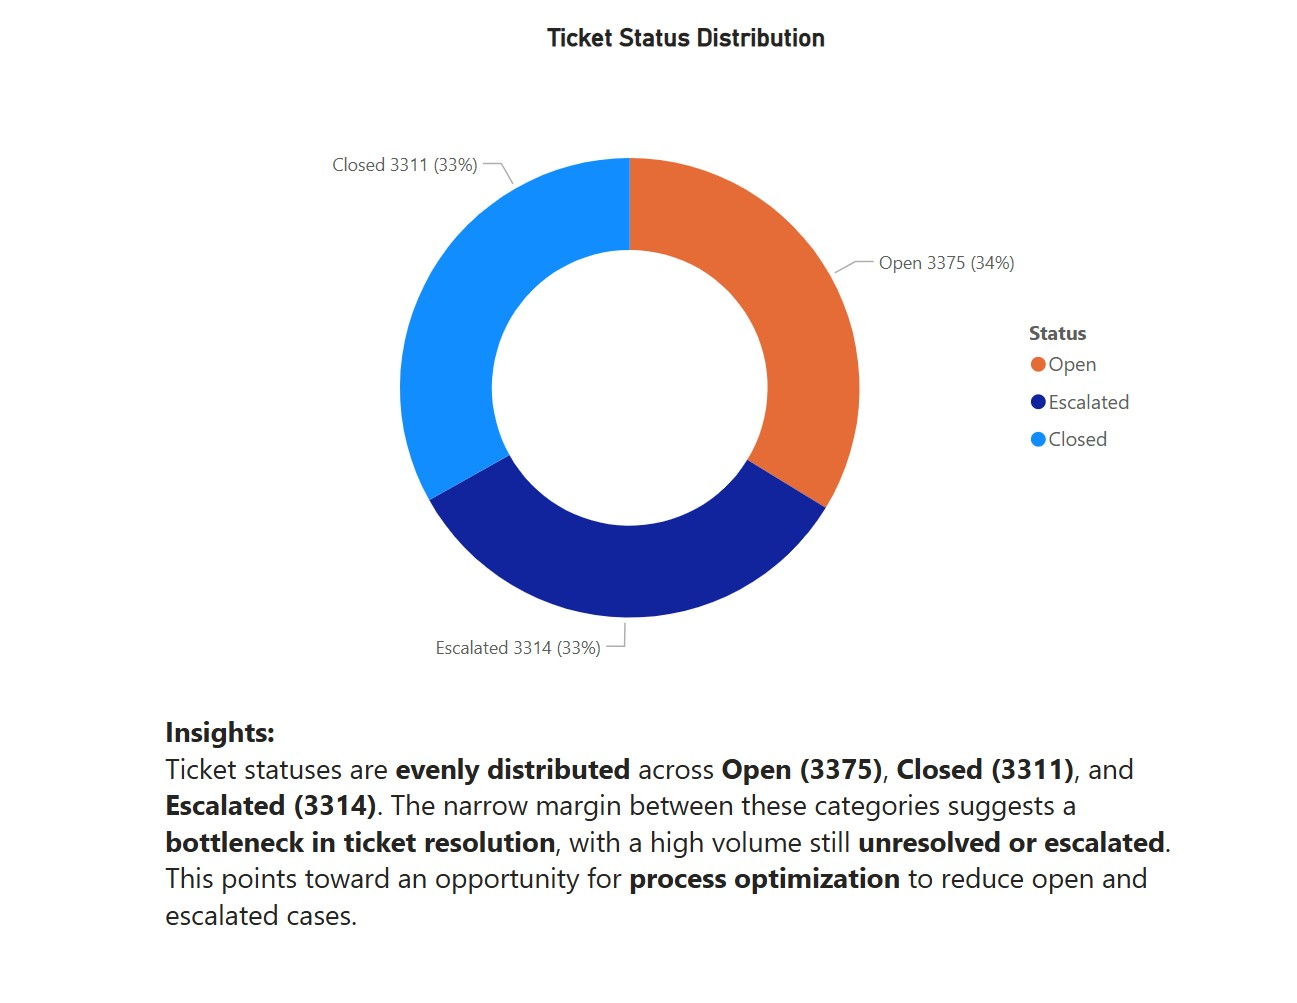

Layout of this report page (visuals, bound fields, positions):
{"tool":"powerbi","page":{"name":"Ticket Status Distribution","canvas":[1280,720],"ordinal":5},"visuals":[{"type":"donutChart","title":"Ticket Status Distribution","fields":{"Category":["status_distribution csv.Status"],"Y":["Sum(status_distribution csv.Count)"]},"box":[237.1,24.3,627.2,474.2],"z":0},{"type":"textbox","box":[193.5,485.3,714.3,221.9],"z":1}]}

Visuals, with their boxes on the page's 1280x720 design canvas (x1, y1, x2, y2). These are canvas units, not pixel positions in the 1297x1003 screenshot, which may show the page scaled, cropped or inside an application window:
"Ticket Status Distribution" donutChart: <region>237, 24, 864, 498</region>
textbox: <region>194, 485, 908, 707</region>
